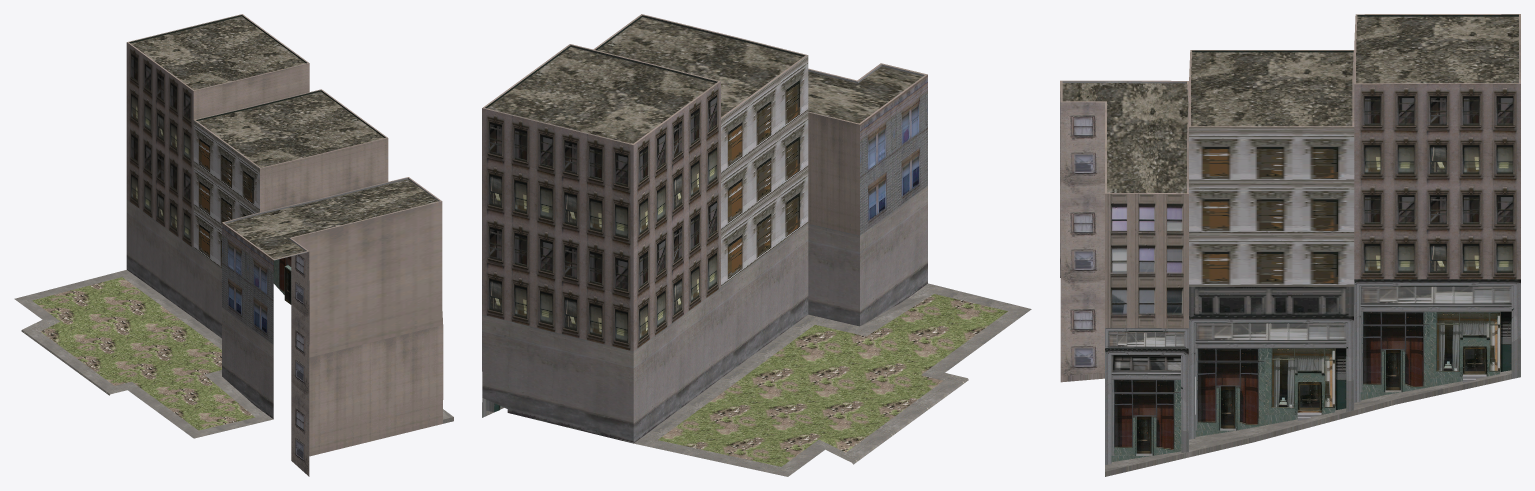
The model's file is yet_another_sfe.obj.
3 renders of one model, left to right at view 1: azimuth 30°, elevation 25°; view 2: azimuth 150°, elevation 25°; view 3: azimuth 270°, elevation 25°, orthographic. The views are drawn at different scales.
Visible parts, largest first — view 1: yet_another_sfe; view 2: yet_another_sfe; view 3: yet_another_sfe.
Part boxes in pixels (box(x1,y1,x2,y2)): yet_another_sfe: box(14, 14, 453, 476); yet_another_sfe: box(482, 14, 1031, 476); yet_another_sfe: box(1060, 14, 1520, 476).
Size of the model in its own units: 51.39 by 49.47 by 55.84.
14 materials, 14 textured.
